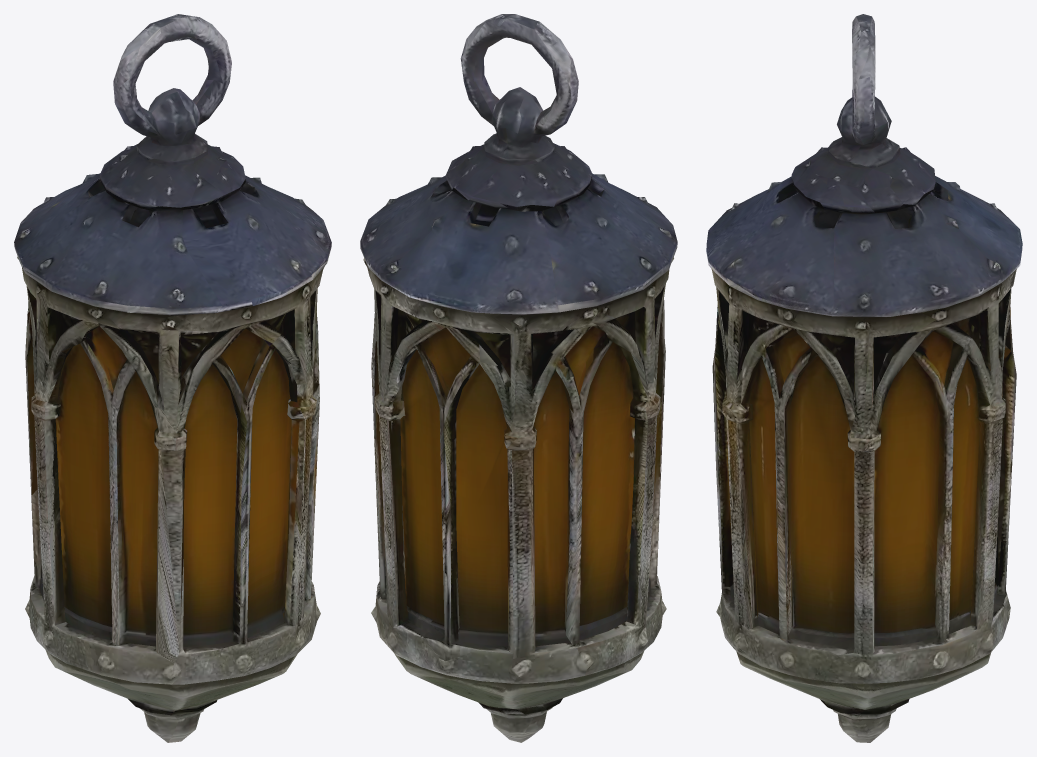
File: waist_lantern.glb
3 views of the same model, side by side, from view 1: azimuth 30°, elevation 25°; view 2: azimuth 150°, elevation 25°; view 3: azimuth 270°, elevation 25° (orthographic).
Parts seen in each view (by area): view 1: WaistLantern; view 2: WaistLantern; view 3: WaistLantern.
Boxes of the visible parts, <box> form: WaistLantern: <box>14,14,331,742</box>; WaistLantern: <box>360,14,677,742</box>; WaistLantern: <box>706,14,1022,742</box>.
Size of the model in its own units: 0.1042 by 0.258 by 0.1029.
1 material, 1 textured.
